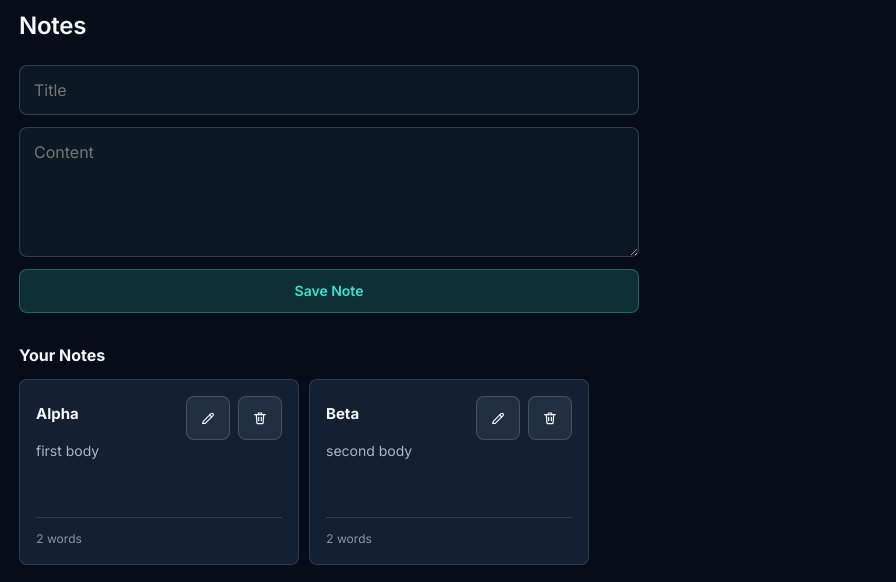
Test: NotesPage › creates a note and shows it in the list
expect the heading "Alpha" is shown: met, box [36, 404, 79, 423]
Type "Gamma" into the field with placeholder "Title" at (329, 90), box [19, 65, 639, 115]
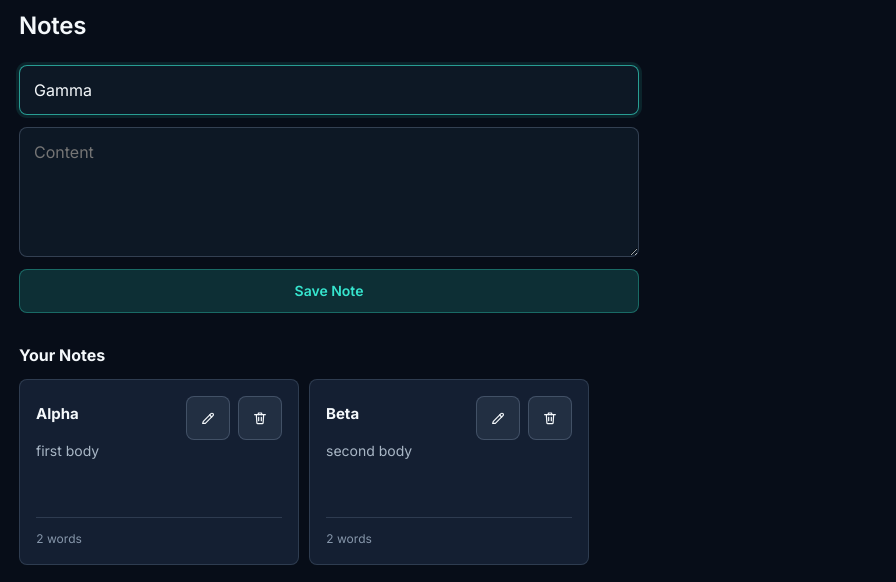
Type "new body" into the text box with placeholder "Content" at (329, 192), box [19, 127, 639, 257]
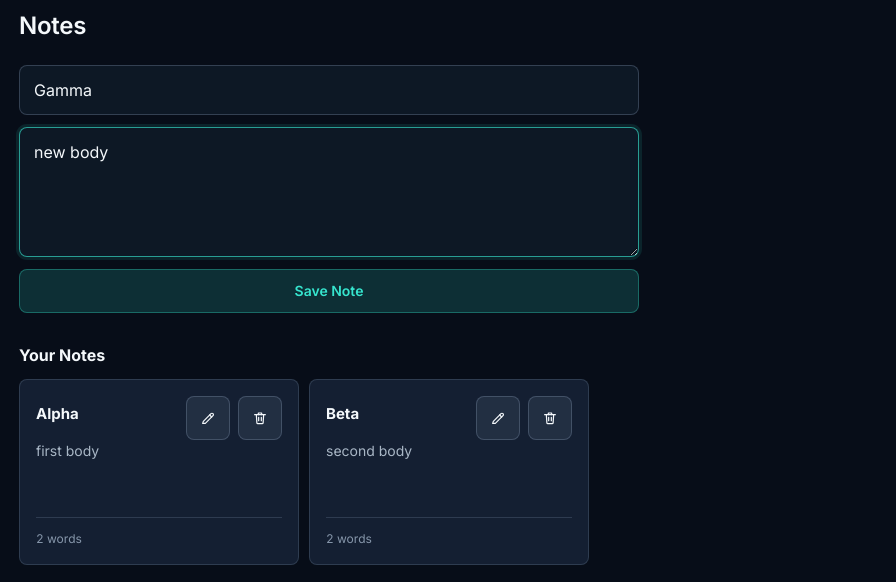
Click the button "Save Note" at (329, 291), box [19, 269, 639, 313]
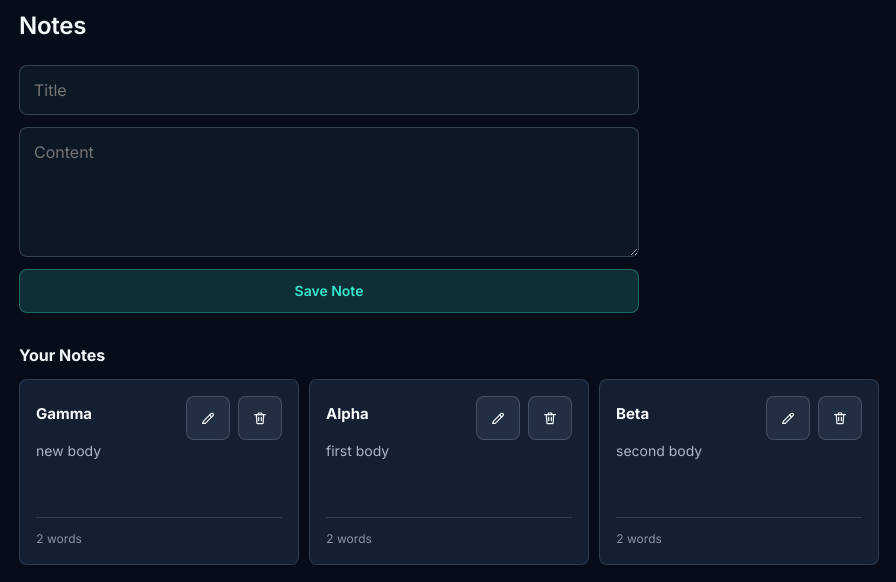
expect the text "new body" is shown: met, box [36, 442, 101, 459]
